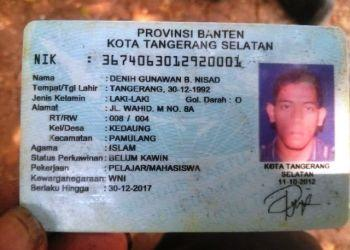ID-card: (21, 21, 348, 230)
